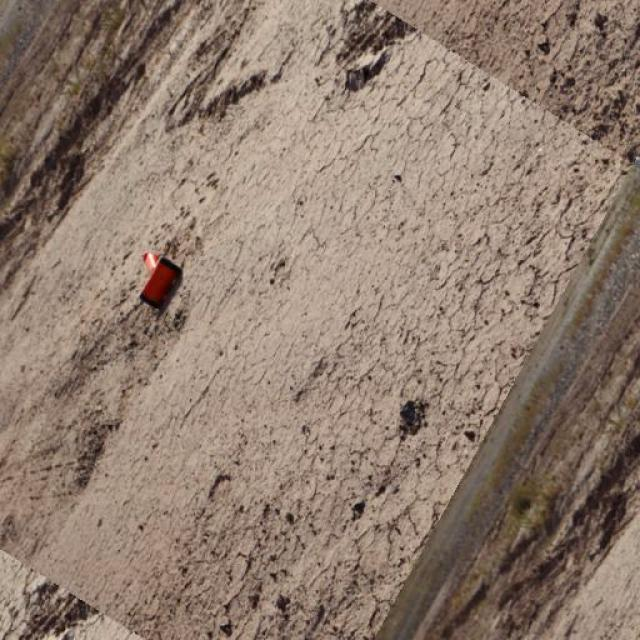mallet: (140, 249, 184, 309)
